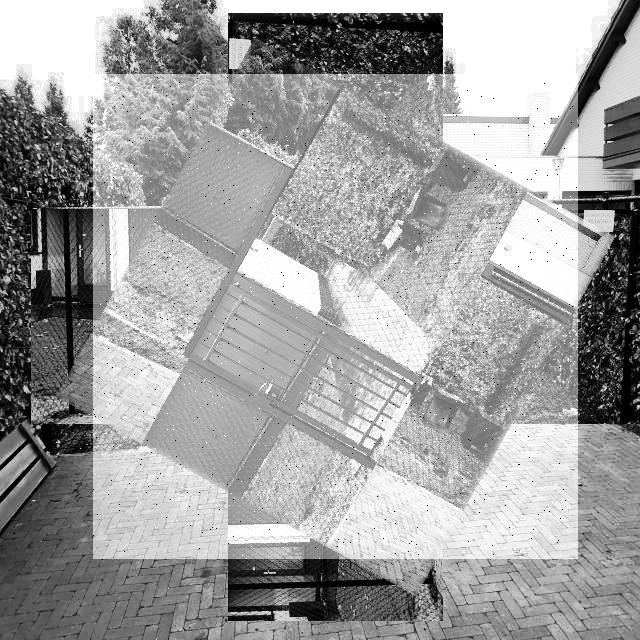fences: (93, 74, 578, 559)
